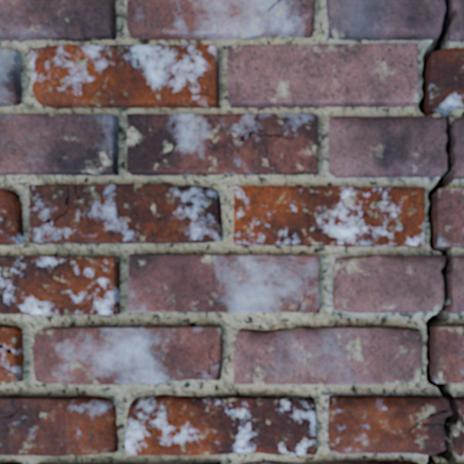brick: (228, 43, 417, 107), (29, 45, 218, 107), (127, 114, 317, 174), (29, 184, 221, 243), (234, 186, 423, 245), (126, 395, 315, 454), (129, 255, 319, 312), (33, 327, 222, 383), (234, 327, 421, 383), (127, 0, 313, 39), (0, 114, 117, 174), (0, 396, 117, 455), (0, 257, 119, 313), (0, 0, 115, 40), (428, 49, 463, 108), (434, 326, 463, 382), (436, 188, 463, 246), (0, 326, 23, 380), (0, 47, 21, 105), (0, 189, 22, 244), (247, 461, 415, 463), (198, 462, 219, 463), (0, 462, 19, 463)
broken_brick: (328, 115, 445, 178), (327, 395, 448, 455), (331, 254, 443, 313), (325, 0, 443, 41), (451, 256, 463, 314), (453, 116, 463, 179), (449, 0, 463, 42), (454, 396, 463, 457)
crack: (408, 0, 461, 463), (44, 184, 91, 228), (296, 276, 306, 311), (0, 408, 19, 419), (0, 365, 15, 375), (267, 0, 280, 11), (0, 343, 12, 354), (315, 309, 320, 313)
